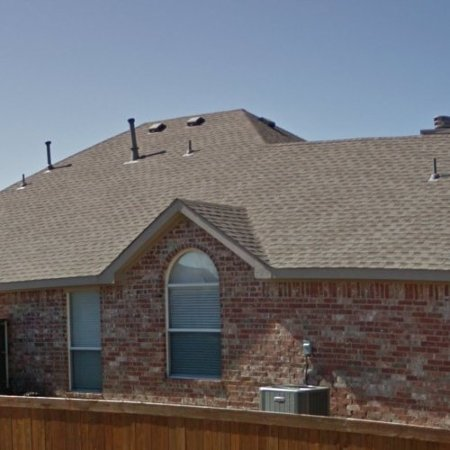自行車: (150, 156, 357, 341), (67, 164, 192, 282), (48, 155, 142, 227), (14, 137, 85, 200)
